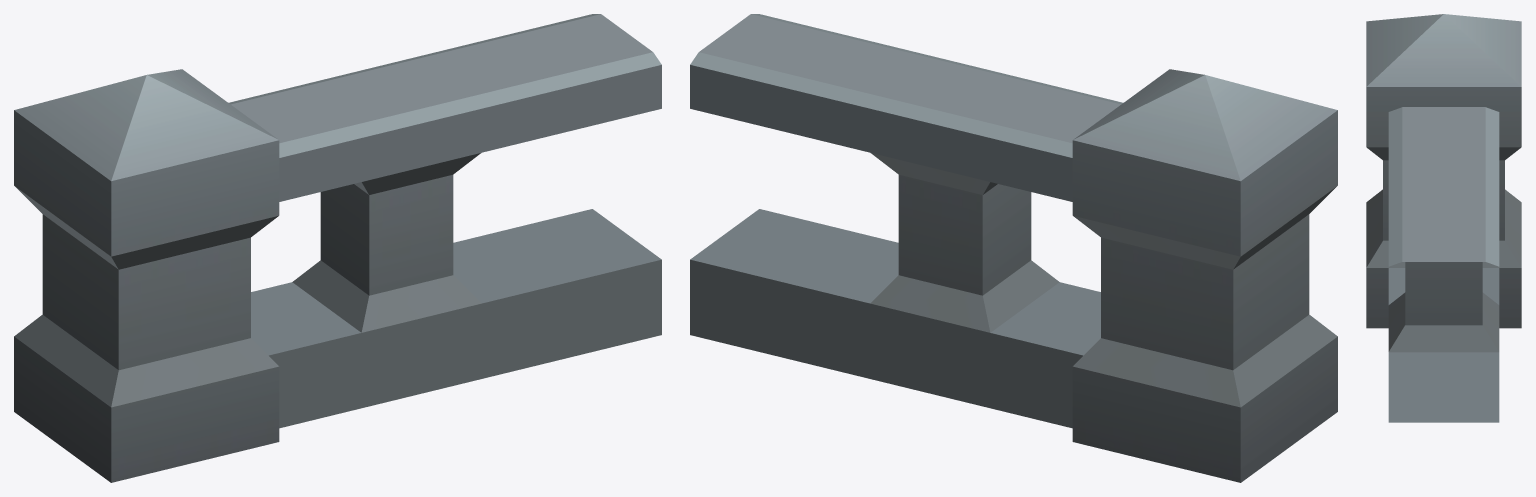
File: barrier-colum-half-gltf.glb
The picture shows the model from 3 angles, left to right: view 1: azimuth 30°, elevation 25°; view 2: azimuth 150°, elevation 25°; view 3: azimuth 270°, elevation 25°; orthographic projection. The views are drawn at different scales.
Visible parts, largest first — view 1: barrier_colum_half; view 2: barrier_colum_half; view 3: barrier_colum_half.
Boxes of the visible parts, x1,y1,x2,y2 form: barrier_colum_half: (14,14,661,482); barrier_colum_half: (690,14,1337,482); barrier_colum_half: (1366,14,1521,422).
Bounding box in the file's own units: 2.35 × 1.4 × 0.7.
Materials: 1 (1 with a texture image).
